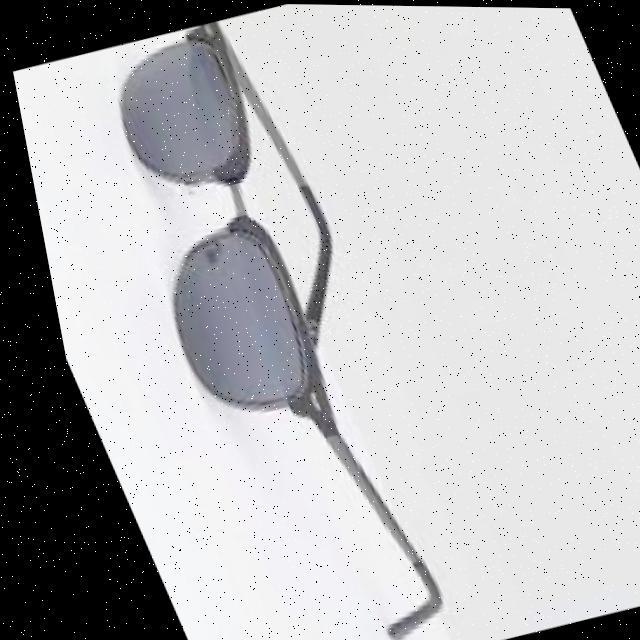gozluk: (48, 12, 408, 471)
